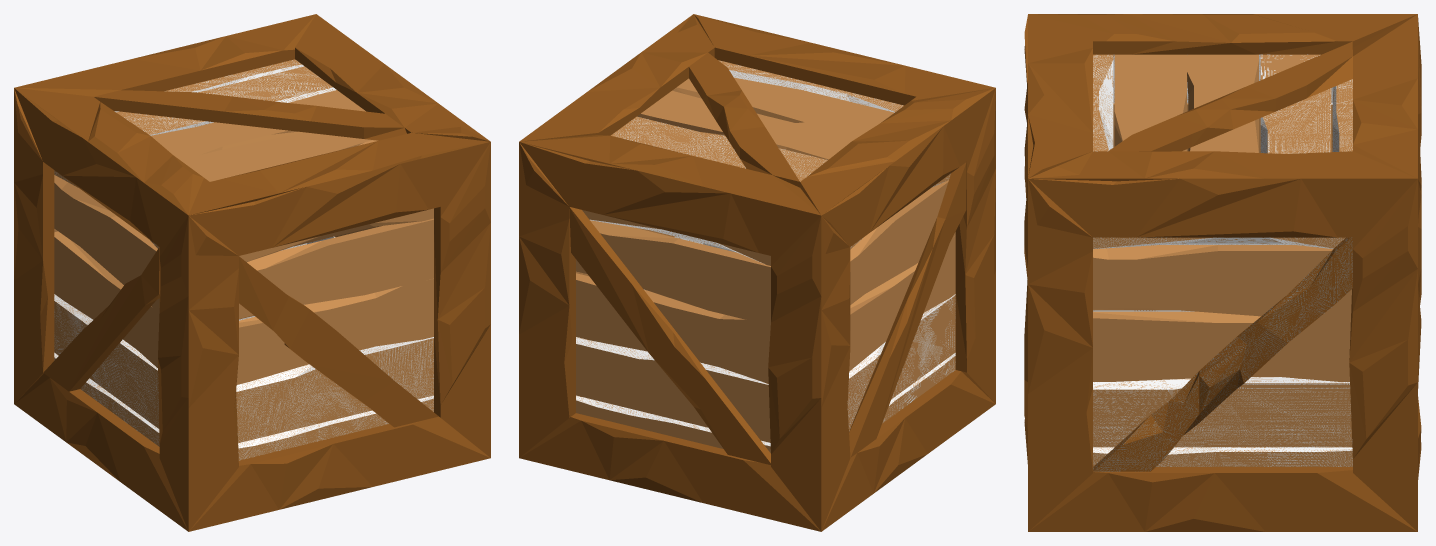
The picture shows the model from 3 angles, left to right: view 1: azimuth 30°, elevation 25°; view 2: azimuth 150°, elevation 25°; view 3: azimuth 270°, elevation 25°; orthographic projection. The views are drawn at different scales.
Visible parts, largest first — view 1: Group4, Group9, Box_Ugol3_6, Box_Ugol4_6, Box_ugol6, Box_Ugol2_6, Group8, Box_ugol2, Box_Ugol4_4, Group15, Box_Ugol4_2, Box_ugol4 (+6 smaller); view 2: Group5, Group9, Group8, Box_Ugol4_1, Box_ugol1, Box_Ugol3_1, Box_Ugol2_1, Group17, Box_Ugol3_2, Box_Ugol2_4, Box_Ugol4_2, Box_ugol4 (+6 smaller); view 3: Group7, Box_Ugol4_3, Box_Ugol3_3, Box_Ugol2_3, Box_ugol3, Group8, Group16, Box_Ugol3_4, Box_ugol4, Box_Ugol4_4, Box_Ugol2_4, Group18 (+4 smaller).
Boxes of the visible parts, x1,y1,x2,y2 form: Group4: [236, 208, 433, 460]; Group9: [54, 170, 159, 446]; Box_Ugol3_6: [434, 142, 490, 457]; Box_Ugol4_6: [189, 416, 490, 531]; Box_ugol6: [188, 216, 238, 531]; Box_Ugol2_6: [189, 142, 490, 255]; Group8: [114, 59, 377, 181]; Box_ugol2: [14, 88, 54, 403]; Box_Ugol4_4: [15, 14, 315, 96]; Group15: [239, 256, 438, 427]; Box_Ugol4_2: [14, 373, 188, 531]; Box_ugol4: [295, 14, 490, 141]; Group5: [576, 210, 770, 453]; Group9: [847, 173, 955, 430]; Group8: [611, 60, 903, 181]; Box_Ugol4_1: [519, 413, 820, 531]; Box_ugol1: [519, 142, 575, 457]; Box_Ugol3_1: [768, 216, 821, 531]; Box_Ugol2_1: [519, 142, 820, 255]; Group17: [569, 207, 770, 464]; Box_Ugol3_2: [955, 88, 995, 403]; Box_Ugol2_4: [694, 14, 994, 105]; Box_Ugol4_2: [821, 370, 995, 531]; Box_ugol4: [519, 14, 714, 141]; Group7: [1093, 237, 1352, 471]; Box_Ugol4_3: [1028, 467, 1417, 531]; Box_Ugol3_3: [1349, 179, 1417, 531]; Box_Ugol2_3: [1028, 178, 1417, 237]; Box_ugol3: [1028, 179, 1092, 531]; Group8: [1093, 54, 1352, 153]; Group16: [1093, 237, 1352, 471]; Box_Ugol3_4: [1029, 14, 1416, 54]; Box_ugol4: [1028, 151, 1416, 181]; Box_Ugol4_4: [1353, 14, 1417, 178]; Box_Ugol2_4: [1028, 14, 1092, 178]; Group18: [1108, 41, 1352, 151].
Size of the model in its own units: 550 by 550 by 550.
